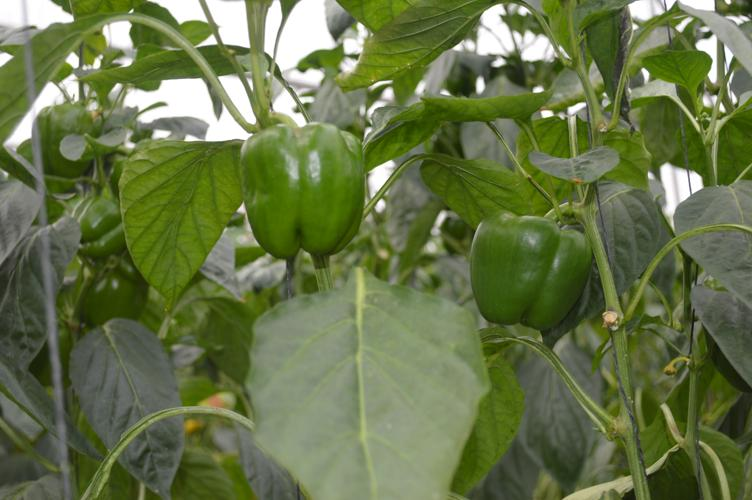BellPepper: (241, 122, 360, 258), (472, 212, 588, 332), (31, 107, 101, 175), (77, 265, 149, 326), (69, 196, 128, 256)
